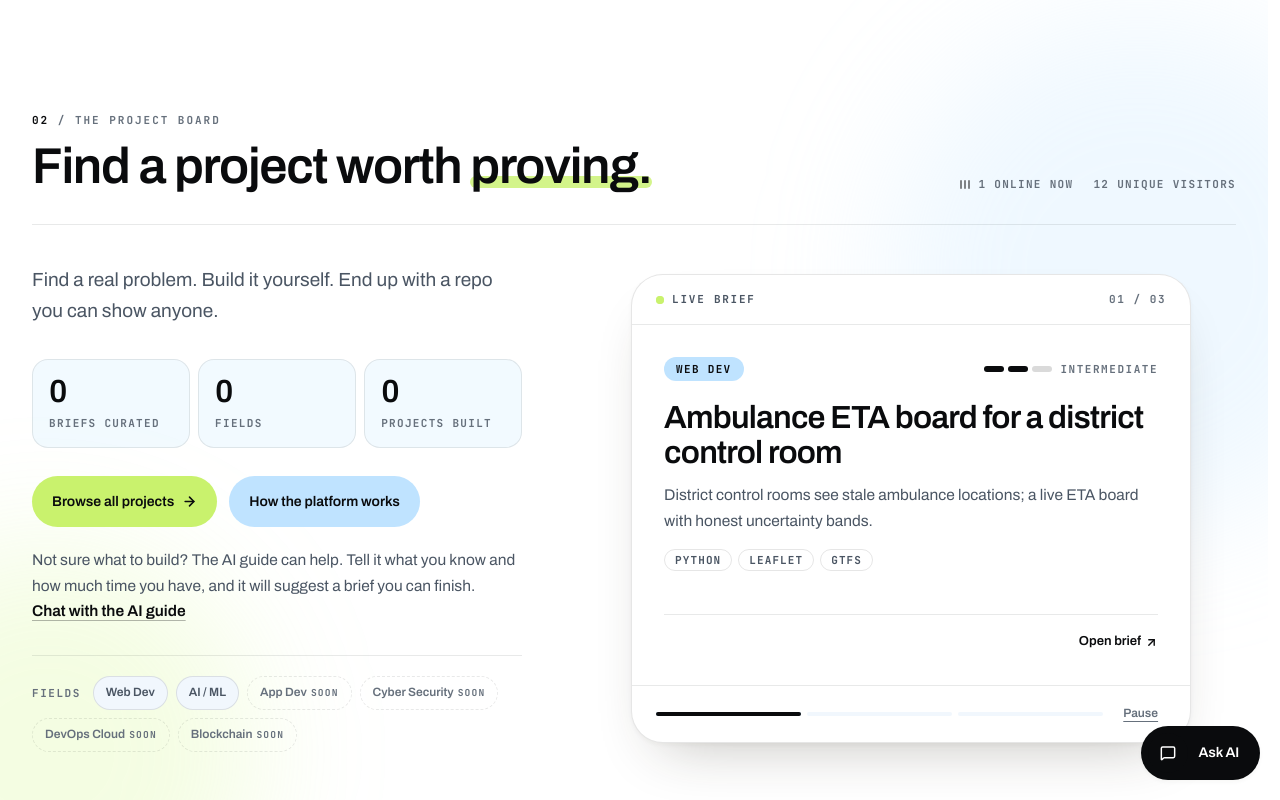
Scenario: ChatWidget › opens from the project board AI guide button
Click the button "Chat with the AI guide" at (109, 610), box left=32, top=598, right=186, bottom=623
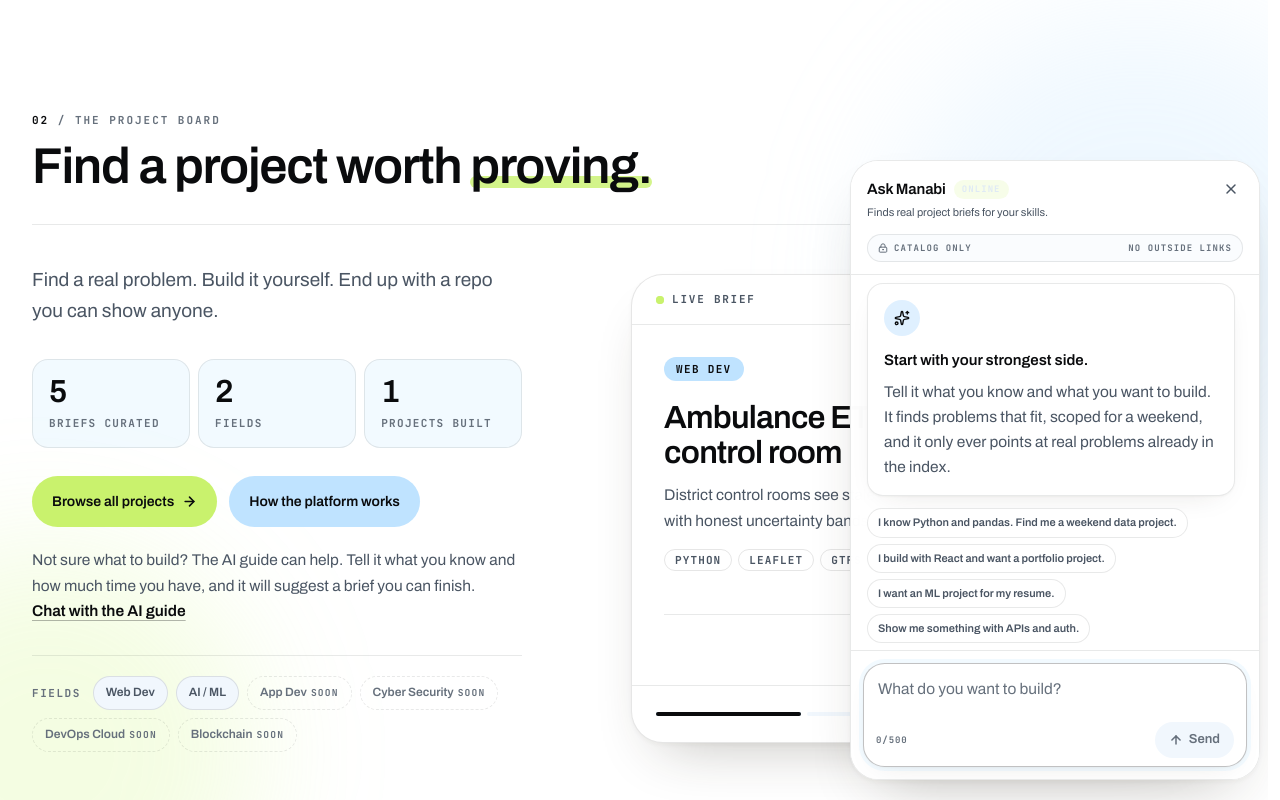
Expected: the element named "MANABI chat" is shown, left=850, top=160, right=1260, bottom=780
